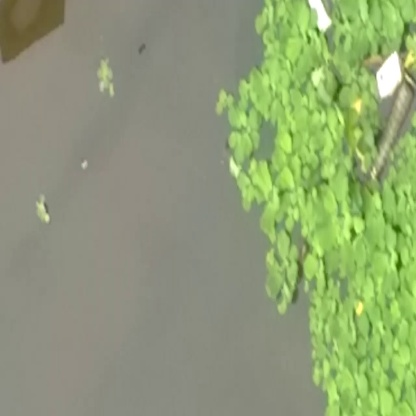grass: (227, 70, 320, 264)
